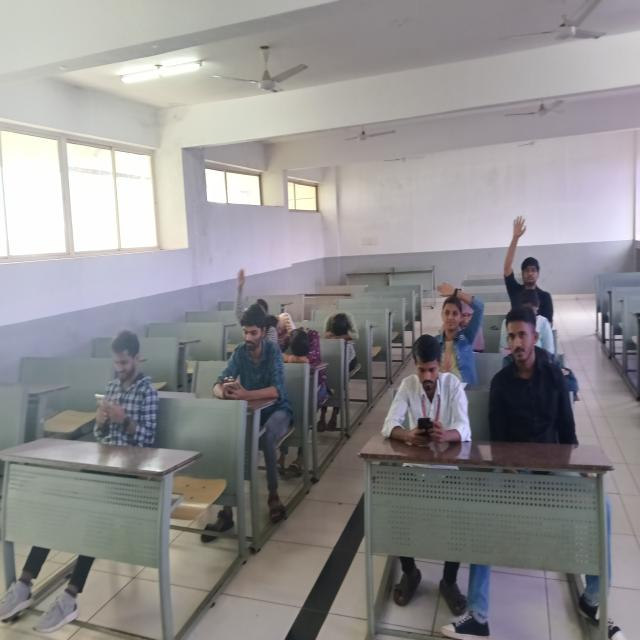Hand Rising: (423, 273, 485, 369), (498, 209, 549, 309)
Sleeping: (277, 322, 326, 380), (316, 308, 362, 352)
Using Phone: (377, 330, 481, 454), (91, 325, 161, 442), (210, 302, 284, 412)
